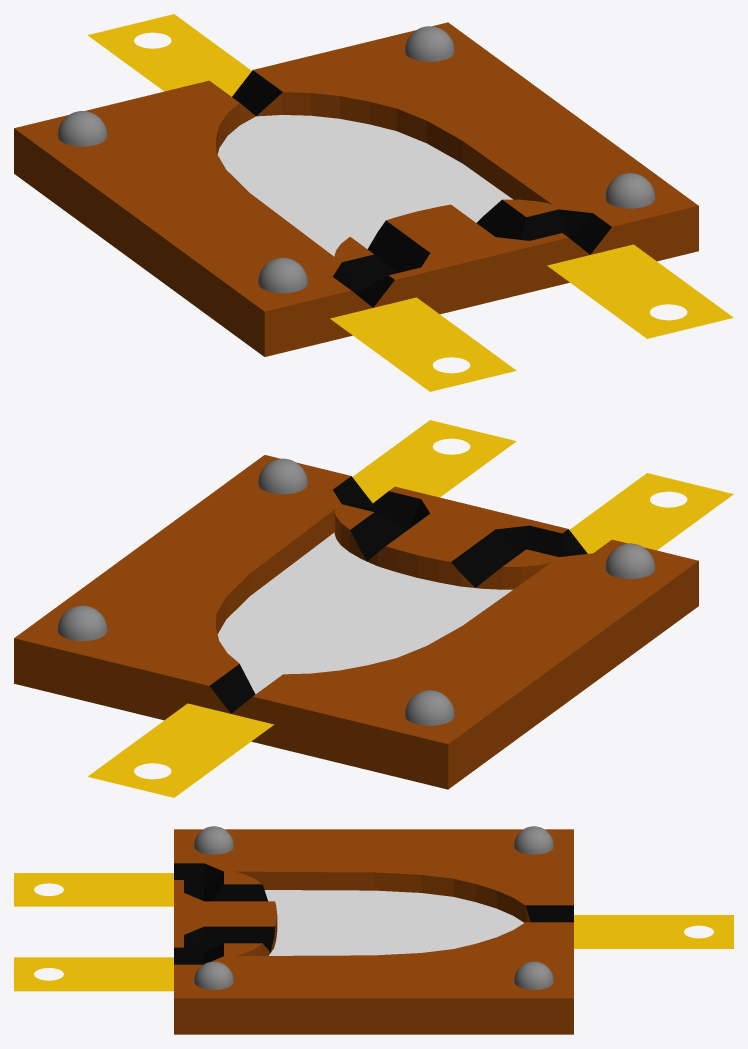
The model's file is logic_gate_or.fbx.
3 renders of one model, top to bottom at view 1: azimuth 30°, elevation 25°; view 2: azimuth 150°, elevation 25°; view 3: azimuth 270°, elevation 25°, orthographic. The views are drawn at different scales.
Parts seen in each view (by area): view 1: logic gate or; view 2: logic gate or; view 3: logic gate or.
Part boxes in pixels (x1=…): logic gate or: x1=14, y1=14, x2=733, y2=391; logic gate or: x1=14, y1=420, x2=733, y2=797; logic gate or: x1=14, y1=826, x2=733, y2=1034.
Bounding box in the file's own units: 200 × 30 × 360.
